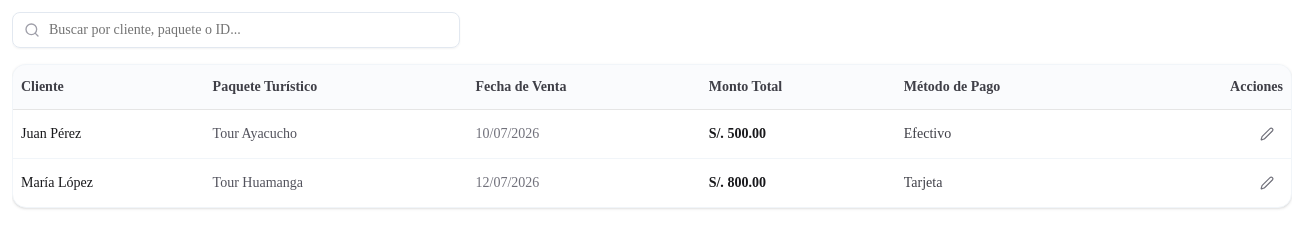
it: SaleTable › filtra ventas por nombre del cliente
Type "María" into the field with placeholder "Buscar por cliente, paquete o ID..." at (236, 30), box 12,12 -> 460,48
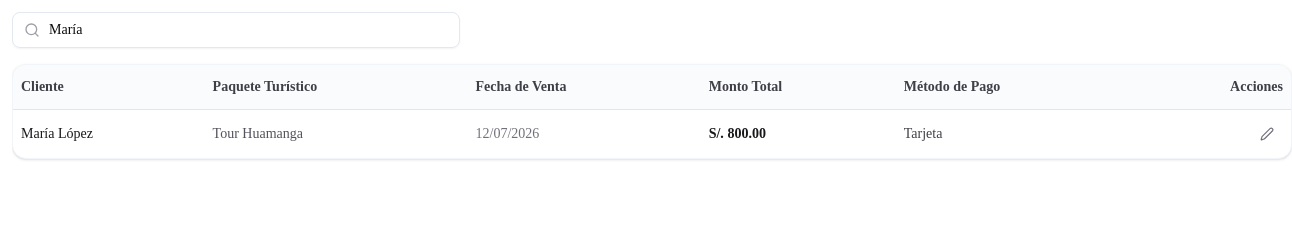
Expected: the text "María López" is shown, 13,109 -> 205,158
Now the text "Juan Pérez" is gone
